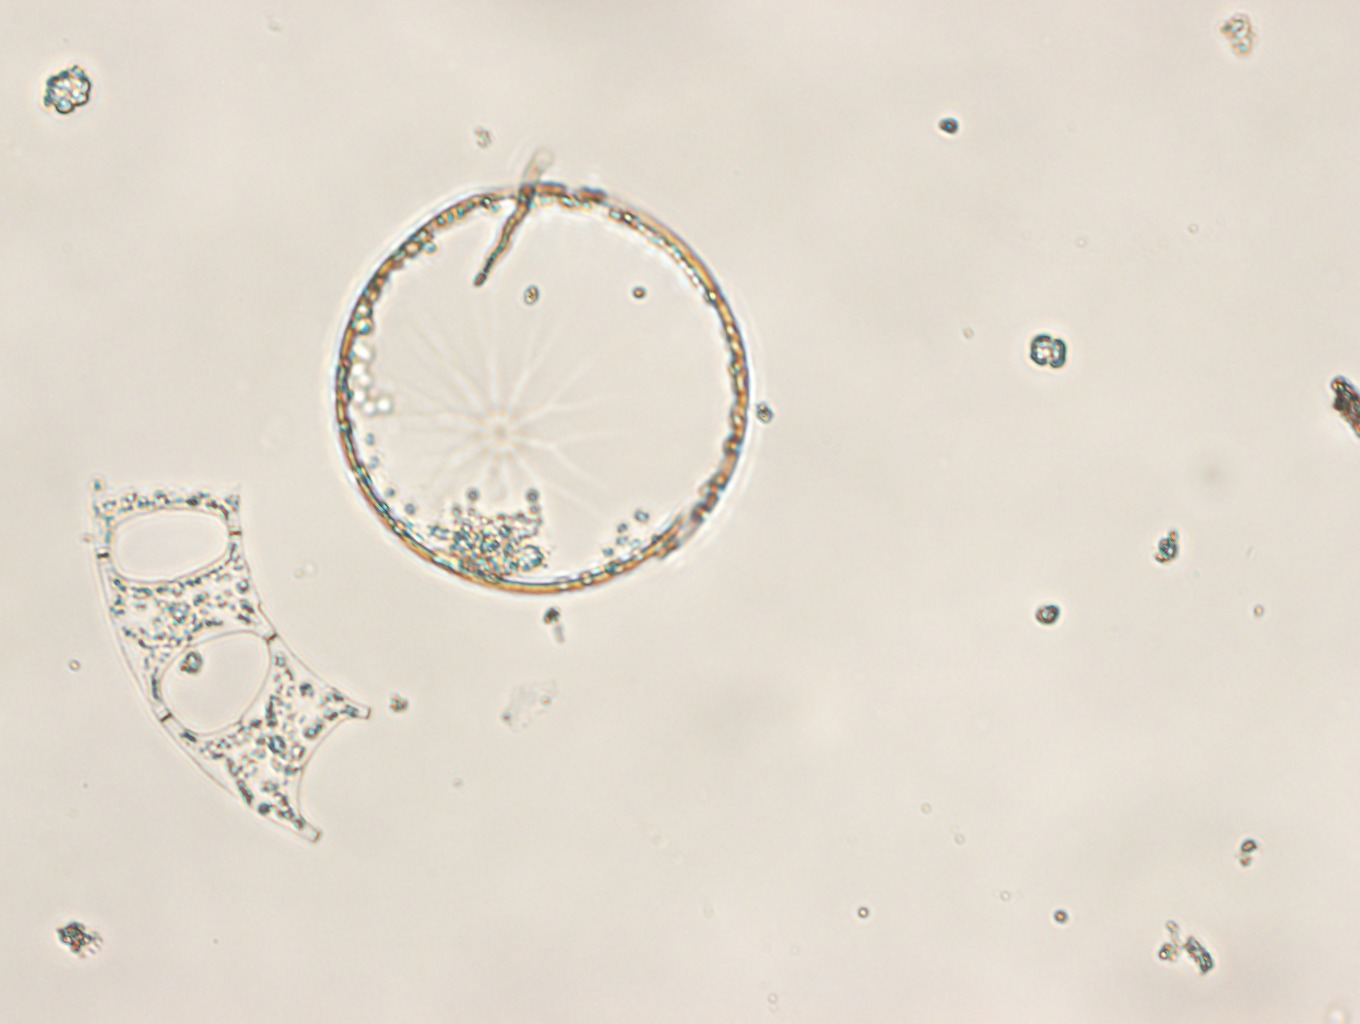coscinodiscus: (333, 180, 750, 594)
eucampia: (91, 479, 370, 844)
